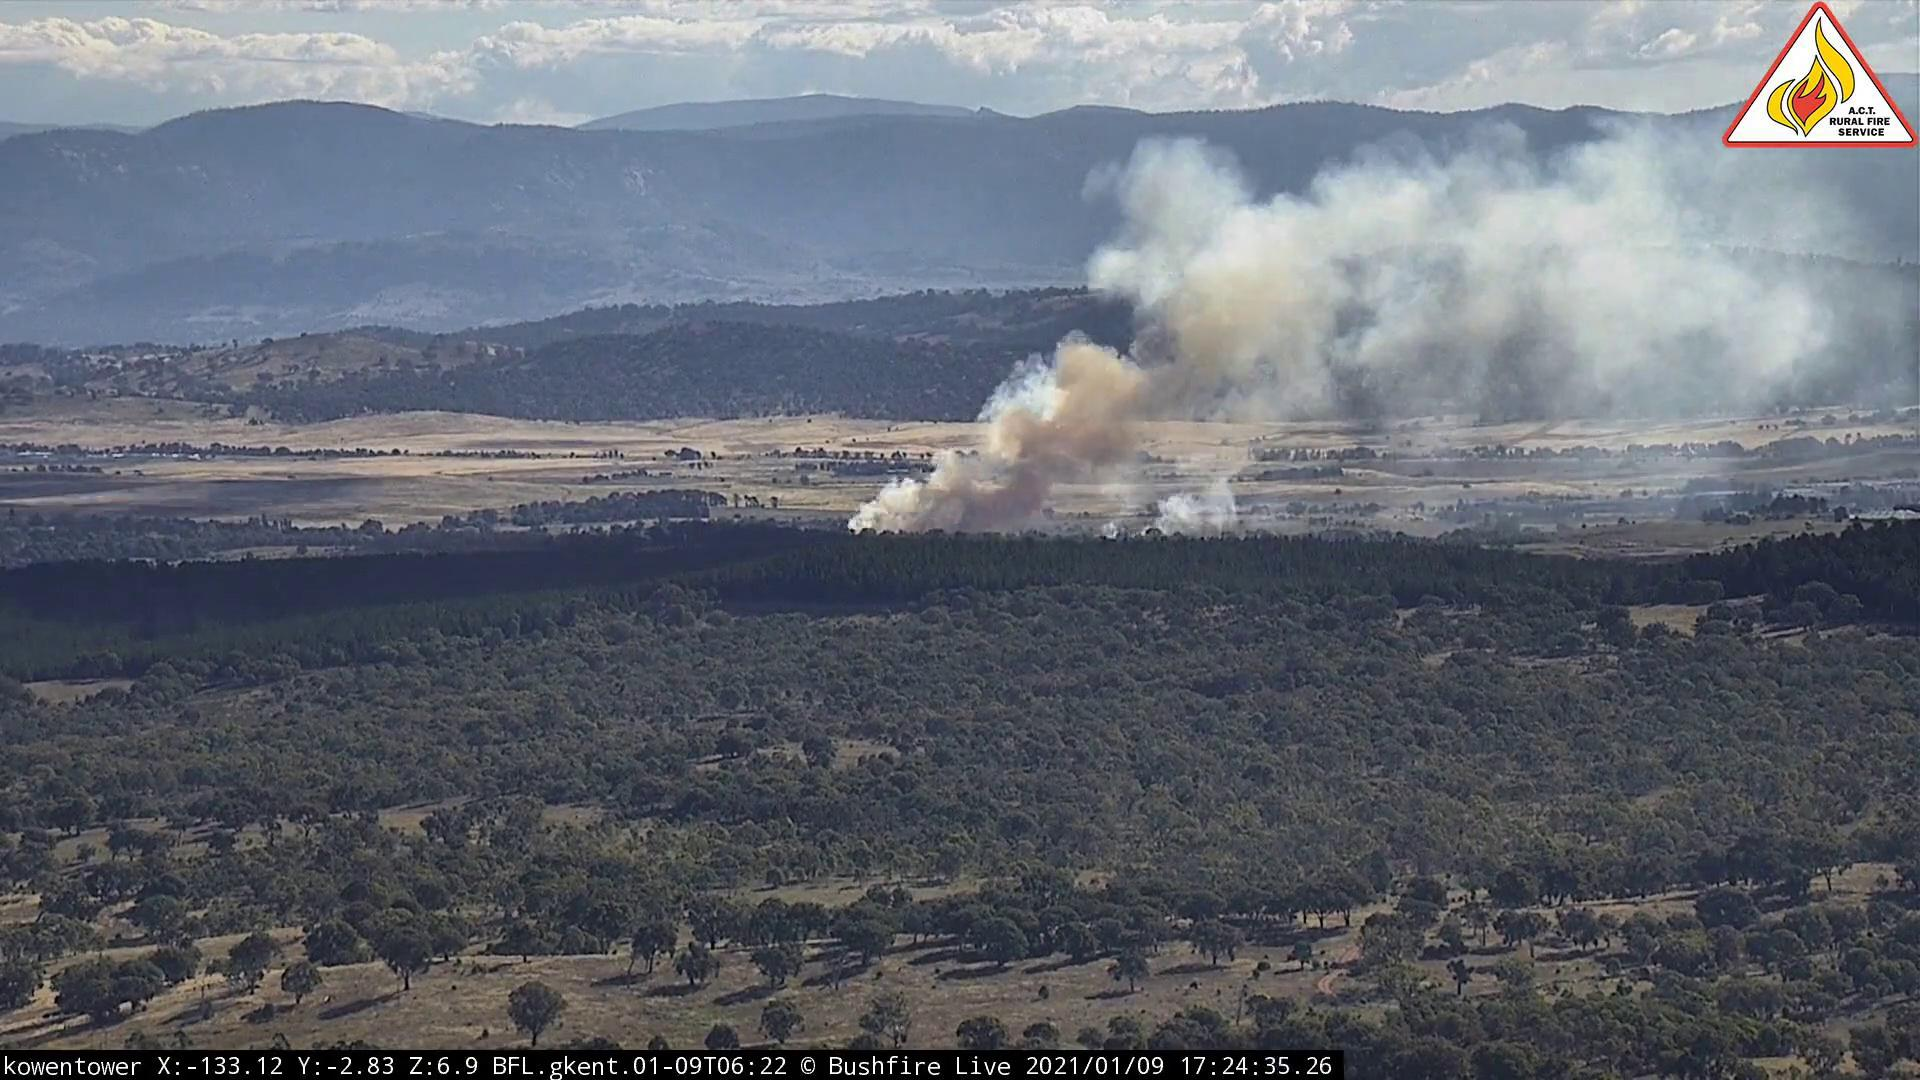Smoke: (837, 160, 1817, 549)
